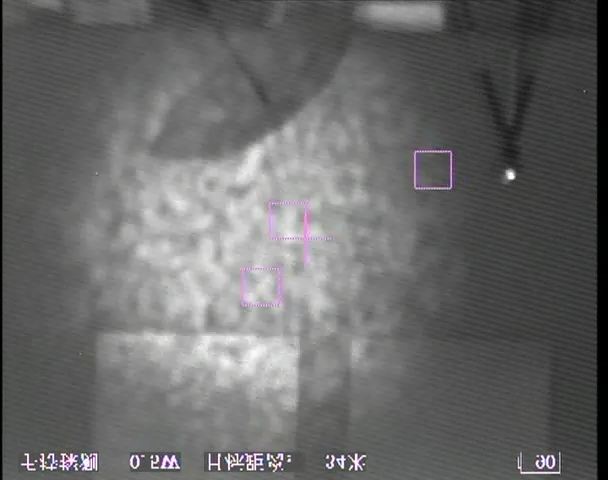my: (505, 170, 515, 181)
